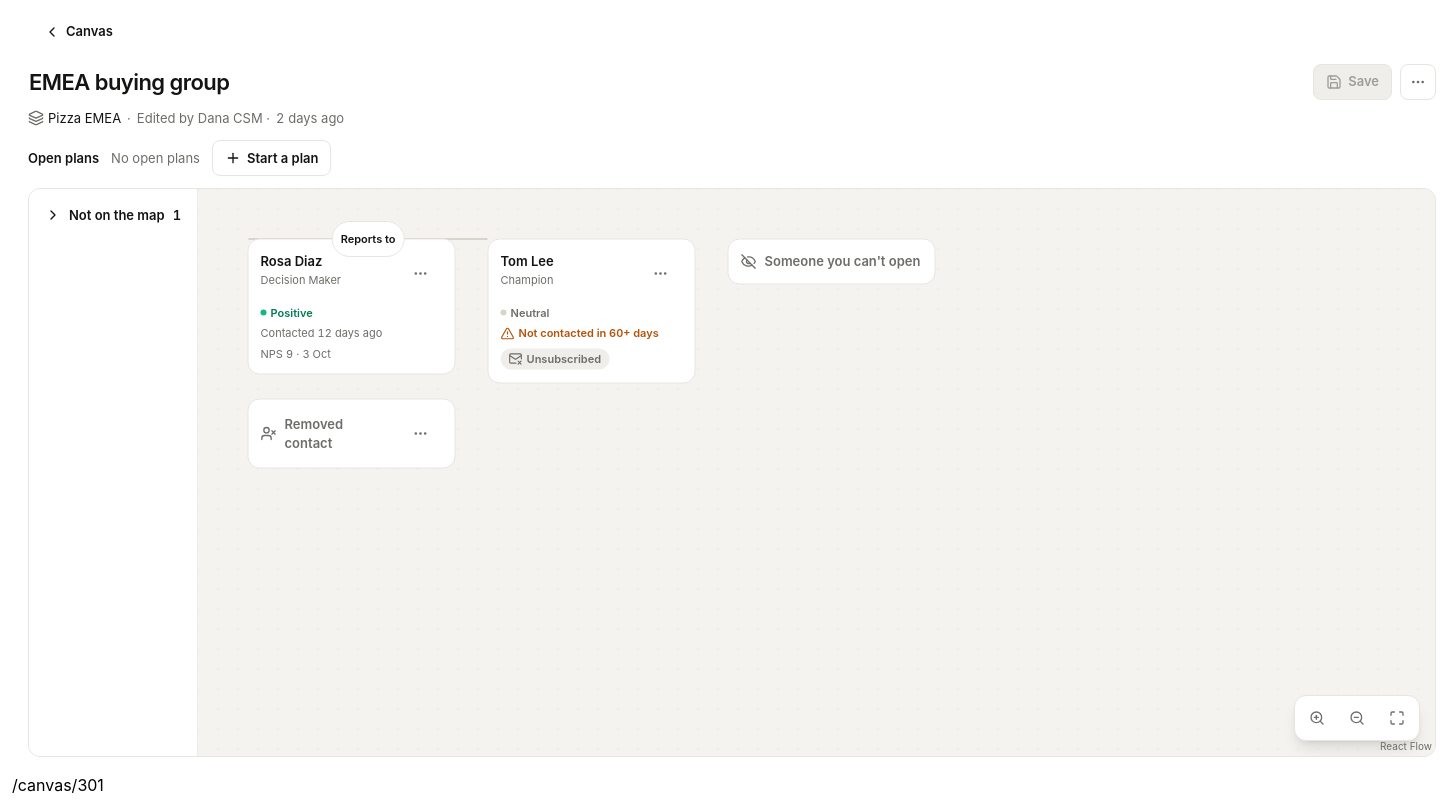
Test: MapEditor board: lines, menus and focus (canvas visuals) › removes once on a double-click of Remove from map, without an error
Click the button named "Actions for Rosa Diaz" at (420, 274), box x1=398 y1=252 x2=442 y2=296
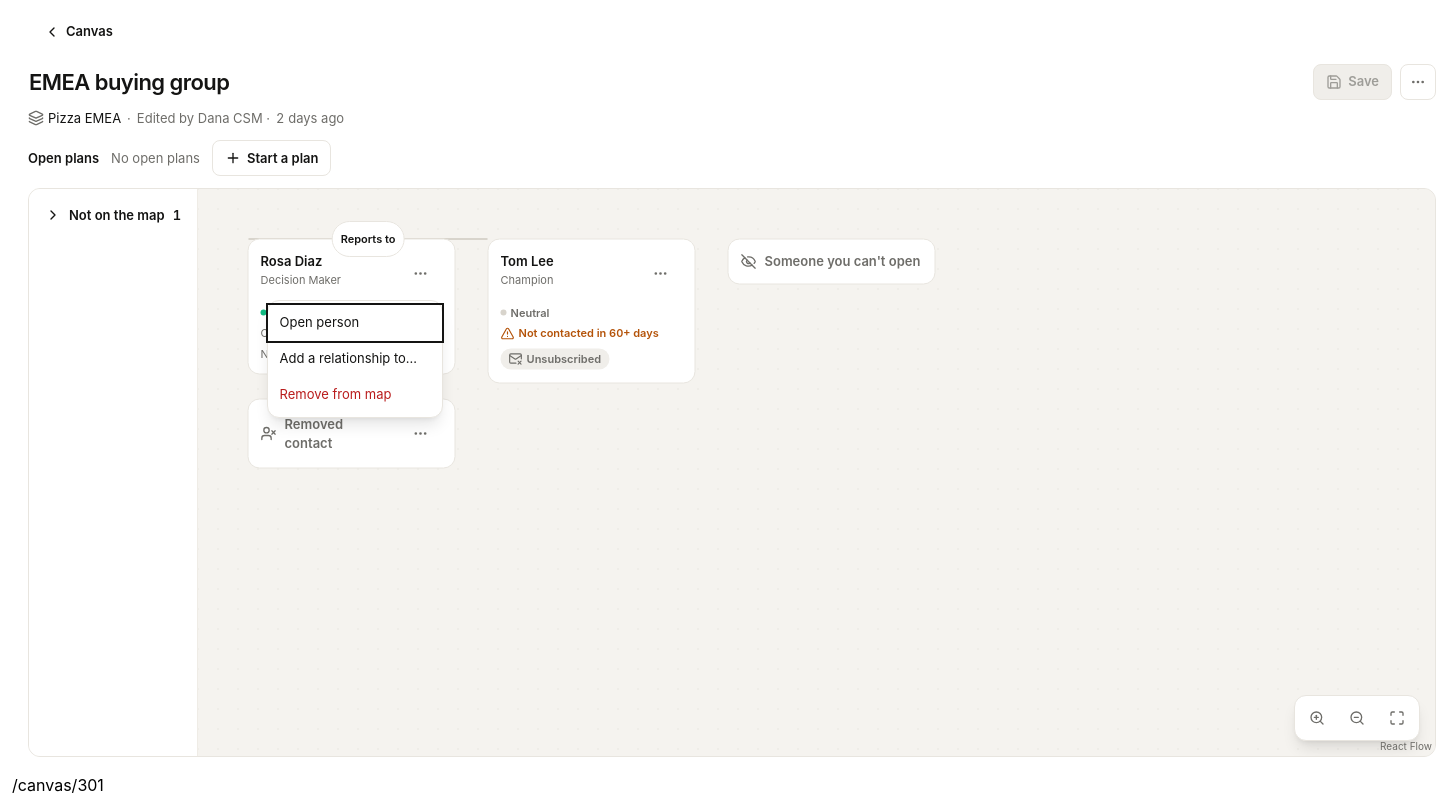
Double-click the menu item "Remove from map" at (354, 394), box x1=268 y1=376 x2=442 y2=412
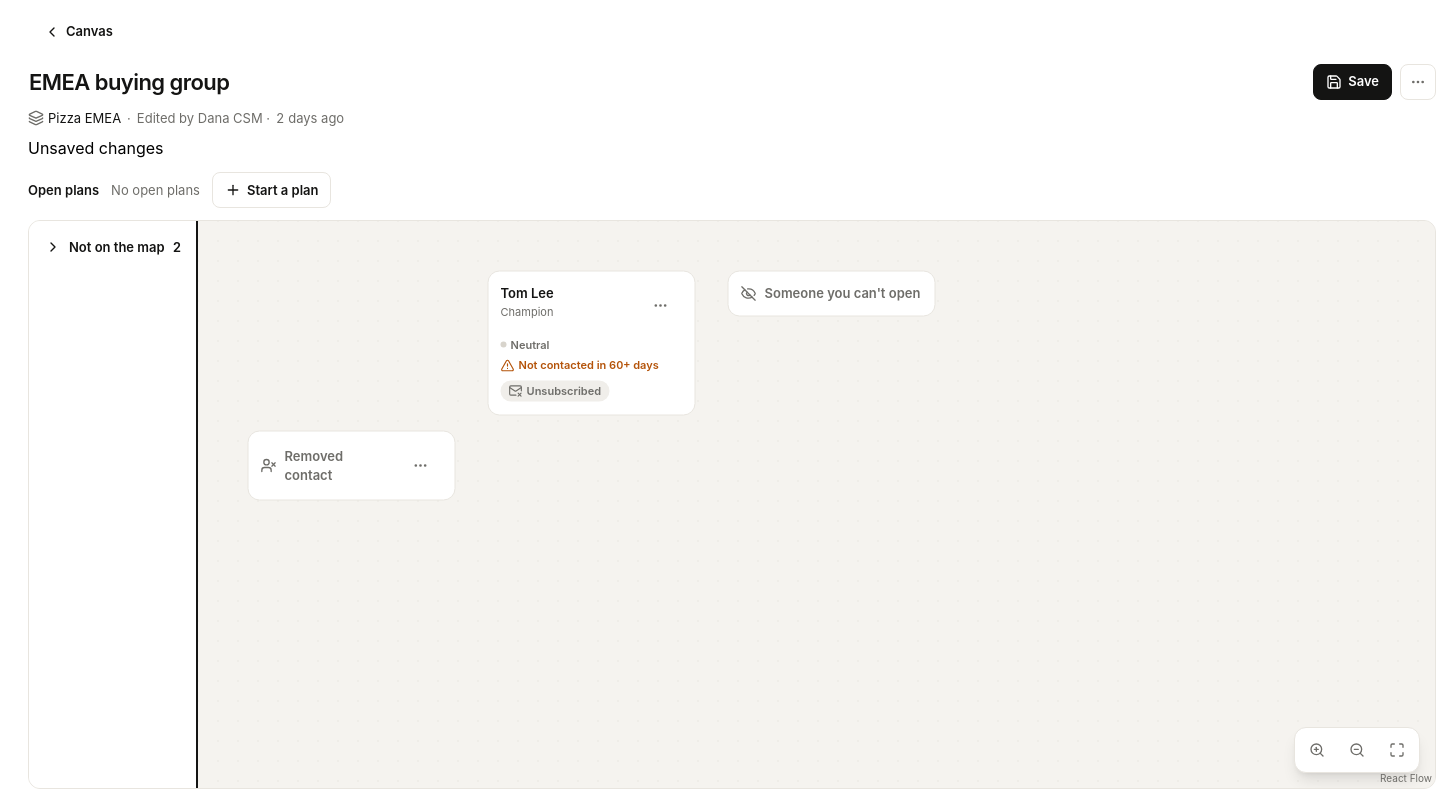
Expected: the button named "Actions for Tom Lee" is shown, x1=638 y1=284 x2=682 y2=328
Expected: the number of elements with class "react-flow__node" is 3, x1=488 y1=270 x2=696 y2=415; x1=728 y1=270 x2=936 y2=316; x1=248 y1=430 x2=456 y2=500
